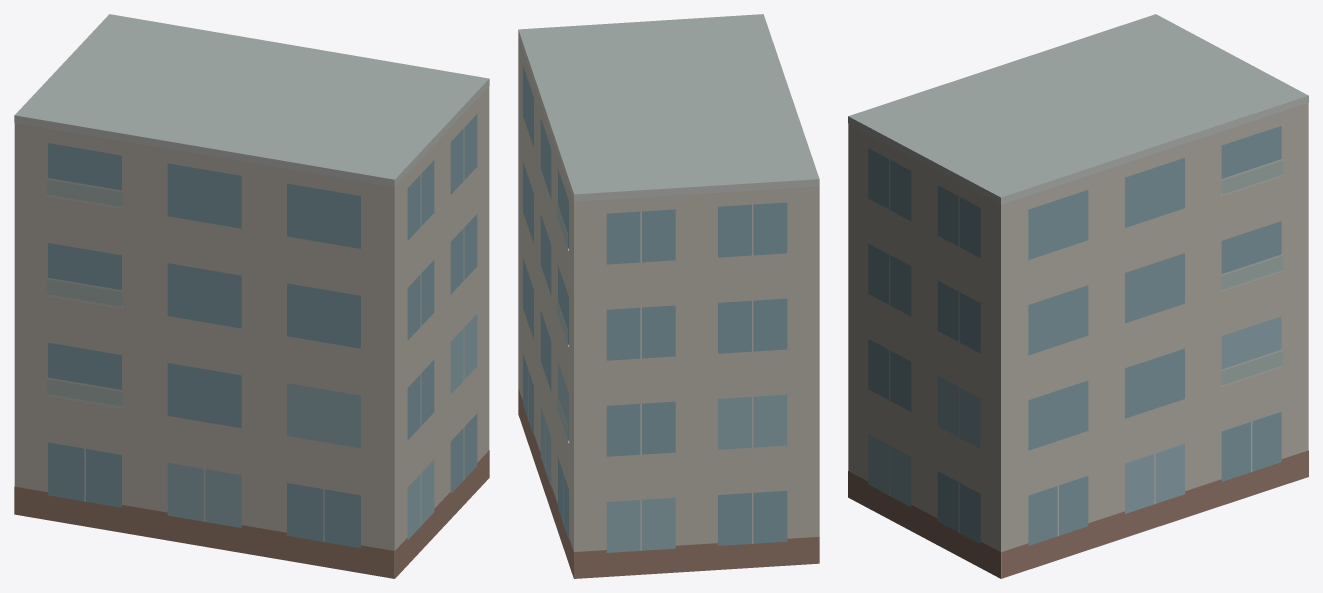
The model's file is survey-upis-32814814.glb.
3 views of the same model, side by side, from view 1: azimuth 30°, elevation 25°; view 2: azimuth 150°, elevation 25°; view 3: azimuth 270°, elevation 25° (orthographic). The views are drawn at different scales.
Visible parts, largest first — view 1: survey-upis-32814814.tmp; view 2: survey-upis-32814814.tmp; view 3: survey-upis-32814814.tmp.
Boxes of the visible parts, <box> form: survey-upis-32814814.tmp: <box>14,14,489,578</box>; survey-upis-32814814.tmp: <box>518,14,819,578</box>; survey-upis-32814814.tmp: <box>848,14,1308,578</box>.
Size of the model in its own units: 13.54 by 13.1 by 14.35.
